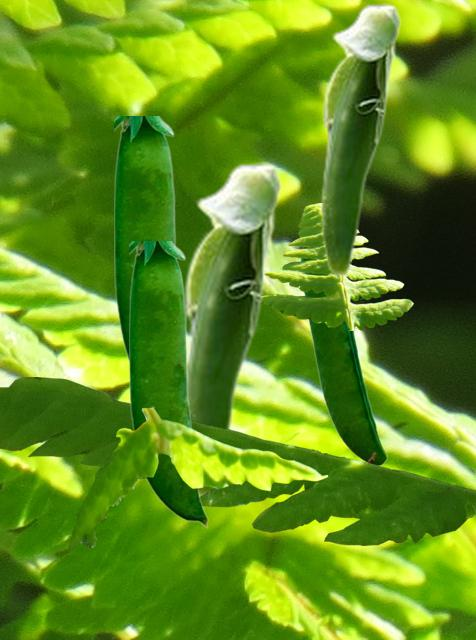pea: (183, 162, 282, 494), (129, 241, 207, 527), (320, 3, 401, 276), (300, 212, 386, 465), (114, 116, 178, 362)
